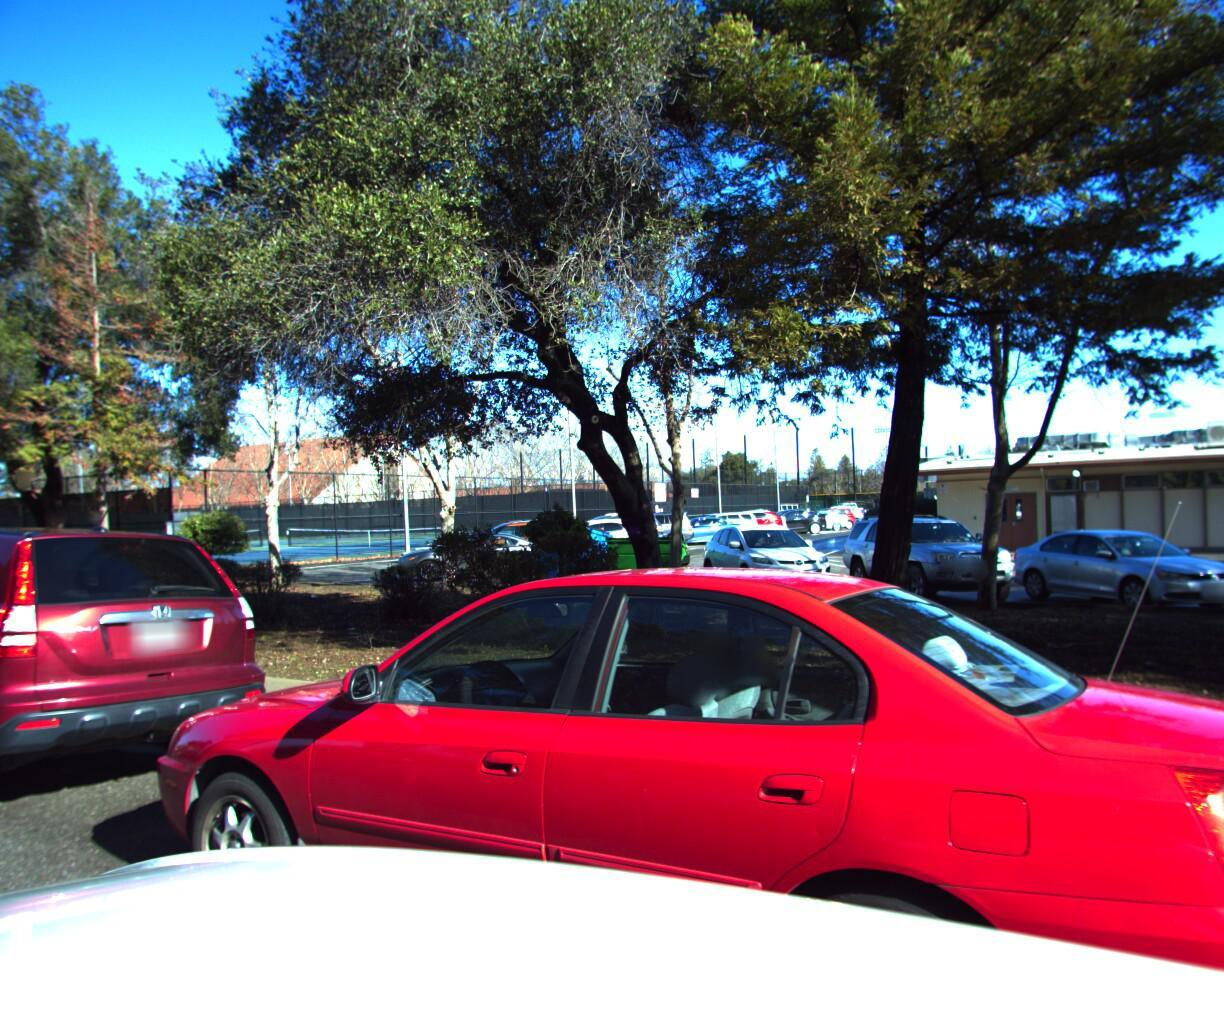car: (62, 541, 1224, 1024), (0, 507, 297, 857)
